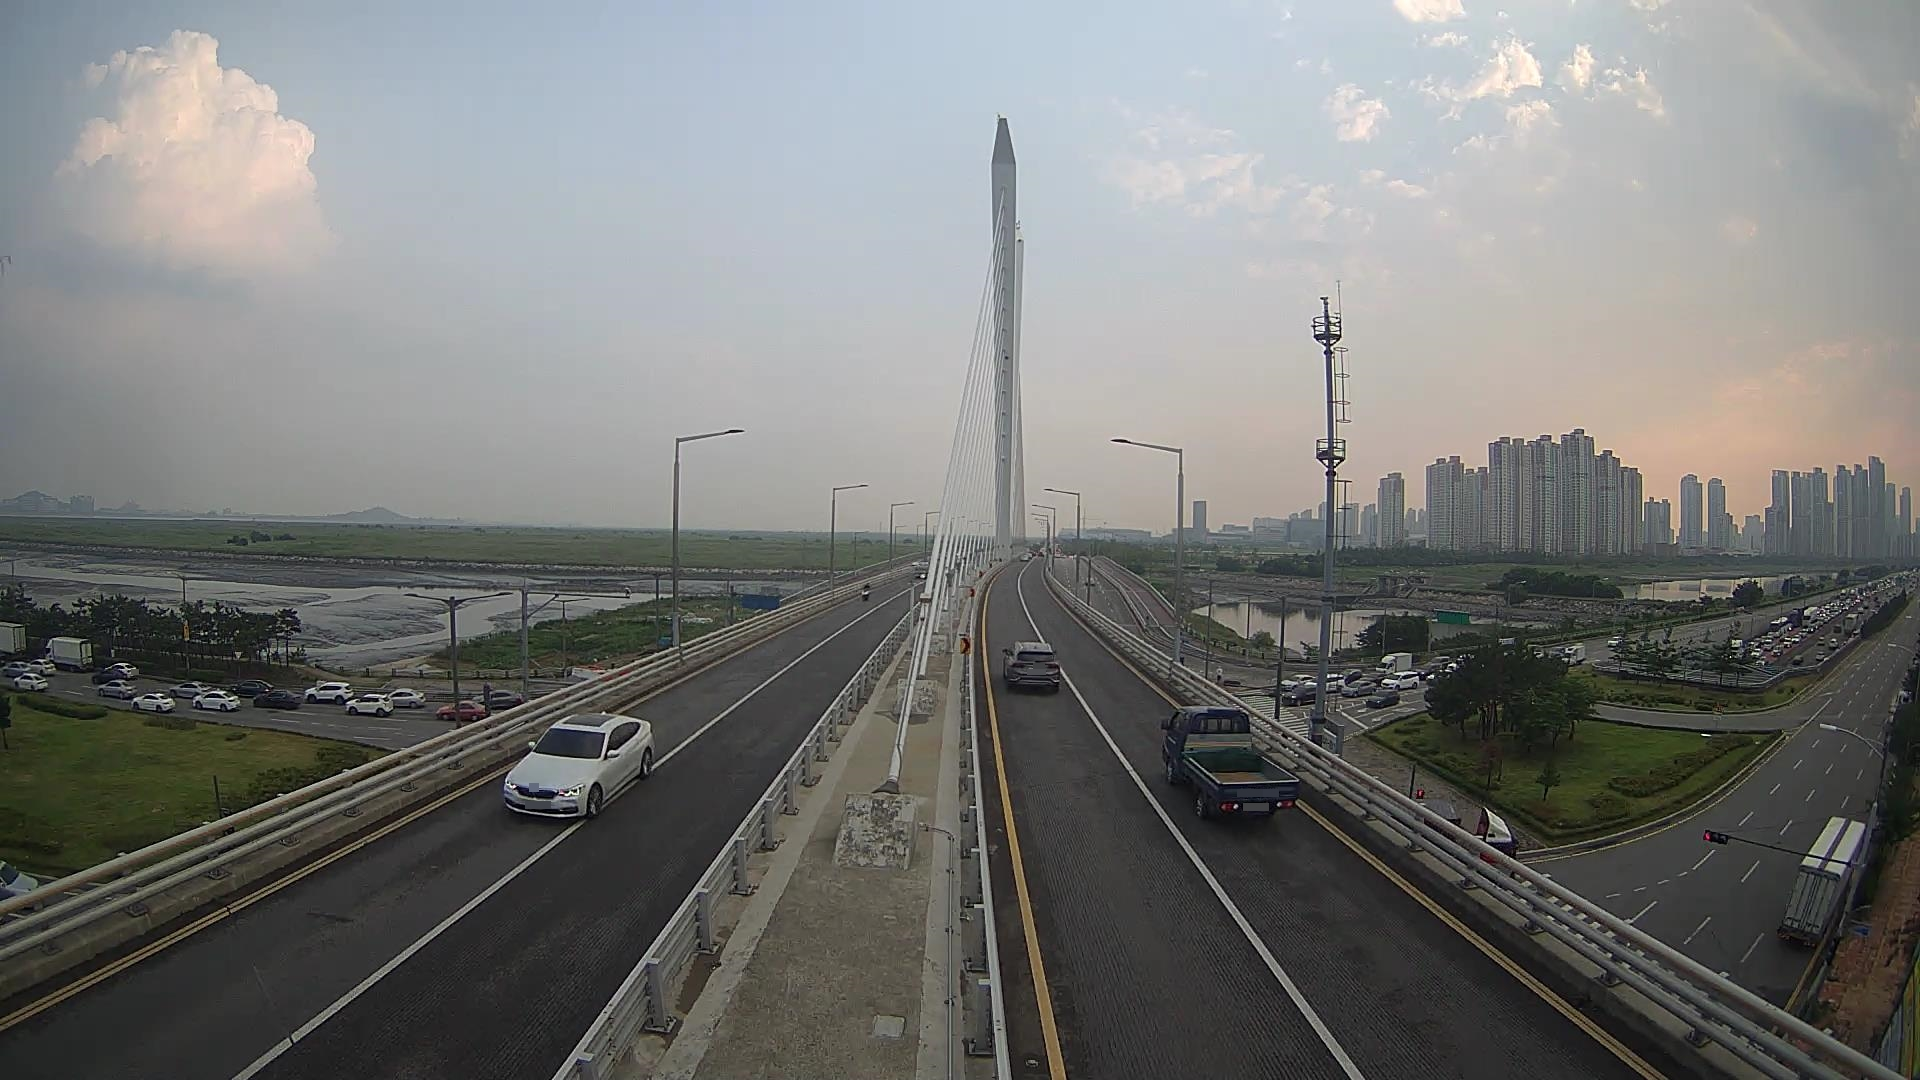정상차량: (1159, 704, 1299, 820)
